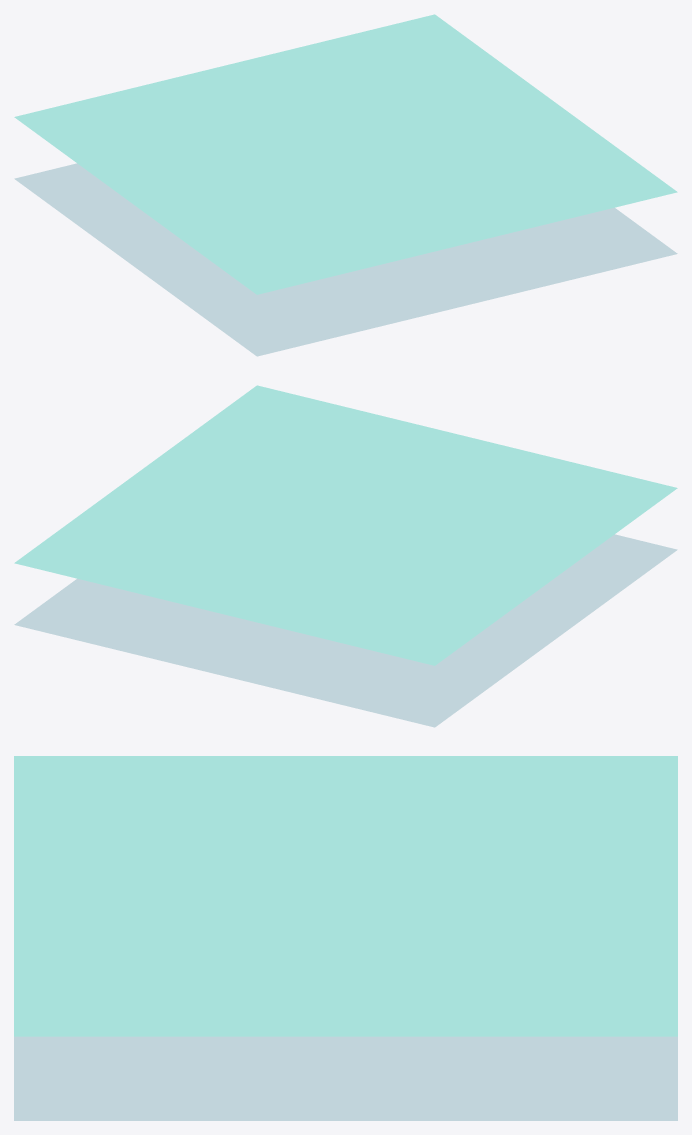
The model's file is fountainCenter.fbx.
3 renders of one model, top to bottom at view 1: azimuth 30°, elevation 25°; view 2: azimuth 150°, elevation 25°; view 3: azimuth 270°, elevation 25°, orthographic. The views are drawn at different scales.
Parts seen in each view (by area): view 1: fountainCenter, fountainCenter.001; view 2: fountainCenter, fountainCenter.001; view 3: fountainCenter, fountainCenter.001.
Part boxes in pixels (x1,y1,x2,y2): fountainCenter: [14, 14, 677, 294]; fountainCenter.001: [14, 163, 677, 356]; fountainCenter: [14, 385, 677, 665]; fountainCenter.001: [14, 534, 677, 727]; fountainCenter: [14, 756, 677, 1036]; fountainCenter.001: [14, 1036, 677, 1120].
Size of the model in its own units: 100 by 14 by 100.
